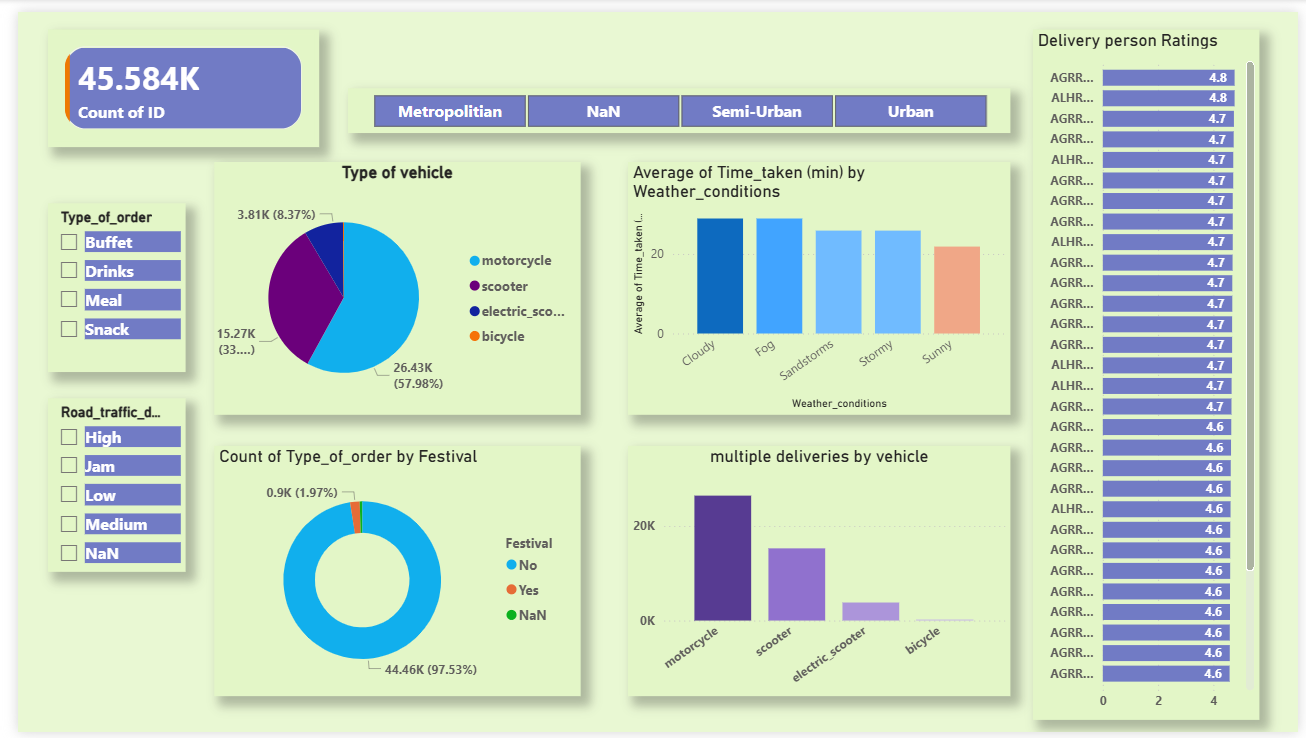

The page's visual inventory and layout, read from the dashboard file:
{"tool":"powerbi","page":{"name":"Page 1","canvas":[1280,720],"ordinal":0},"visuals":[{"type":"cardVisual","fields":{"Data":["CountNonNull(Zomato Dataset.ID)"]},"box":[30,17.5,271.2,117.5],"z":0},{"type":"slicer","fields":{"Values":["Zomato Dataset.Road_traffic_density"]},"box":[30,386.2,137.5,173.8],"z":1},{"type":"slicer","fields":{"Values":["Zomato Dataset.Type_of_order"]},"box":[30,191.2,137.5,168.8],"z":2},{"type":"slicer","fields":{"Values":["Zomato Dataset.City"]},"box":[330,76.2,662.5,45],"z":3},{"type":"pieChart","title":"Type of vehicle","fields":{"Category":["Zomato Dataset.Type_of_vehicle"],"Y":["CountNonNull(Zomato Dataset.Delivery_person_ID)"]},"box":[196.2,150,366.2,252.5],"z":4},{"type":"columnChart","fields":{"Category":["Zomato Dataset.Weather_conditions"],"Y":["Avg(Zomato Dataset.Time_taken (min))"]},"box":[610,150,382.5,252.5],"z":5},{"type":"columnChart","title":"multiple deliveries by vehicle","fields":{"Y":["CountNonNull(Zomato Dataset.multiple_deliveries)"],"Category":["Zomato Dataset.Type_of_vehicle"]},"box":[610,433.8,382.5,250],"z":6},{"type":"donutChart","fields":{"Category":["Zomato Dataset.Festival"],"Y":["CountNonNull(Zomato Dataset.Type_of_order)"]},"box":[196.2,433.8,366.2,250],"z":7},{"type":"barChart","title":"Delivery person Ratings","fields":{"Category":["Zomato Dataset.Delivery_person_ID"],"Y":["Avg(Zomato Dataset.Delivery_person_Ratings)"]},"box":[1023.8,17.5,226.2,690],"z":8}]}

Visuals, with their boxes in screenshot pixels (x1, y1, x2, y2), scaled from the page's 1280x720 canvas onto the 1306x738 screenshot:
cardVisual - CountNonNull(Zomato Dataset.ID): bbox(31, 18, 307, 138)
slicer - Zomato Dataset.Road_traffic_density: bbox(31, 396, 171, 574)
slicer - Zomato Dataset.Type_of_order: bbox(31, 196, 171, 369)
slicer - Zomato Dataset.City: bbox(337, 78, 1013, 124)
"Type of vehicle" pieChart: bbox(200, 154, 574, 413)
columnChart - Zomato Dataset.Weather_conditions x Avg(Zomato Dataset.Time_taken (min)): bbox(622, 154, 1013, 413)
"multiple deliveries by vehicle" columnChart: bbox(622, 445, 1013, 701)
donutChart - Zomato Dataset.Festival x CountNonNull(Zomato Dataset.Type_of_order): bbox(200, 445, 574, 701)
"Delivery person Ratings" barChart: bbox(1045, 18, 1275, 725)
